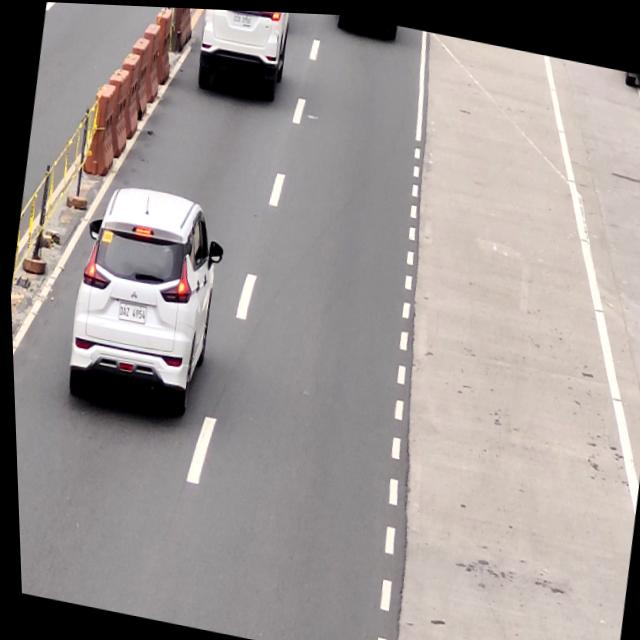Car: (55, 172, 228, 424), (191, 7, 297, 106)
License-Plate: (114, 303, 146, 325), (233, 9, 254, 25)
